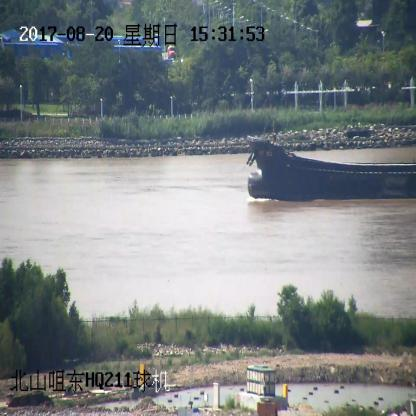Bulk Carrier: (246, 138, 415, 203)
